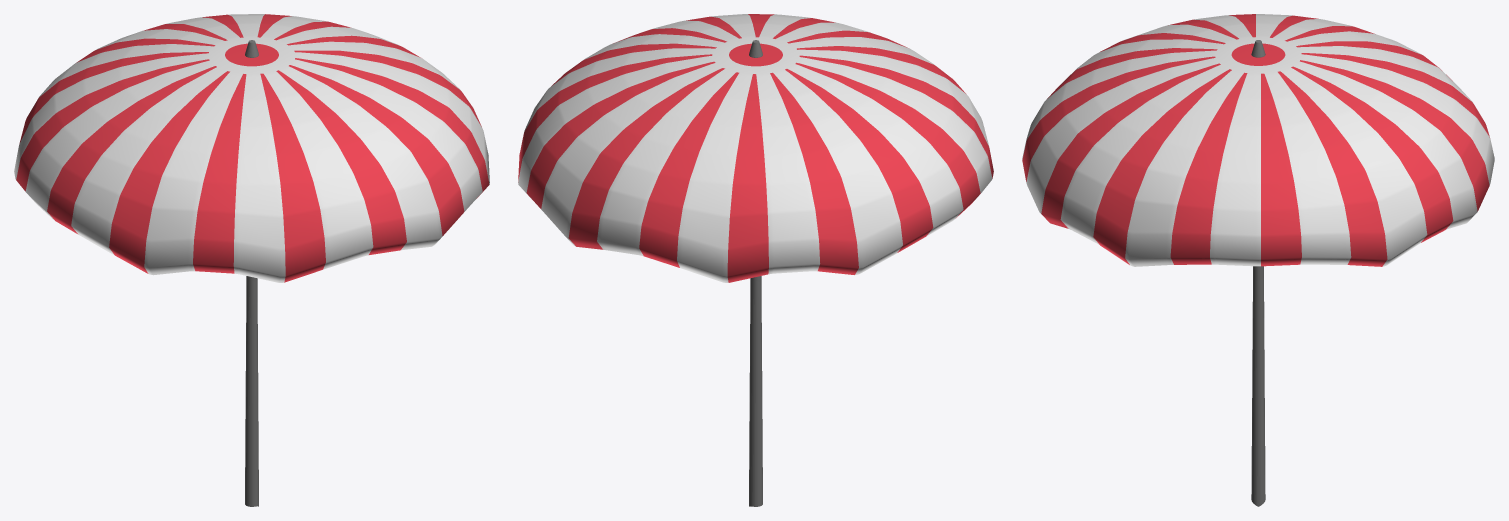
Rendered from Umbrella.fbx.
3 renders of one model, left to right at view 1: azimuth 30°, elevation 25°; view 2: azimuth 150°, elevation 25°; view 3: azimuth 270°, elevation 25°, orthographic.
Parts seen in each view (by area): view 1: UmbrellaBody; view 2: UmbrellaBody; view 3: UmbrellaBody.
Boxes of the visible parts, x1,y1,x2,y2 form: UmbrellaBody: (14,14,489,506); UmbrellaBody: (518,14,993,506); UmbrellaBody: (1022,14,1494,506).
Size of the model in its own units: 480 by 519 by 480.
